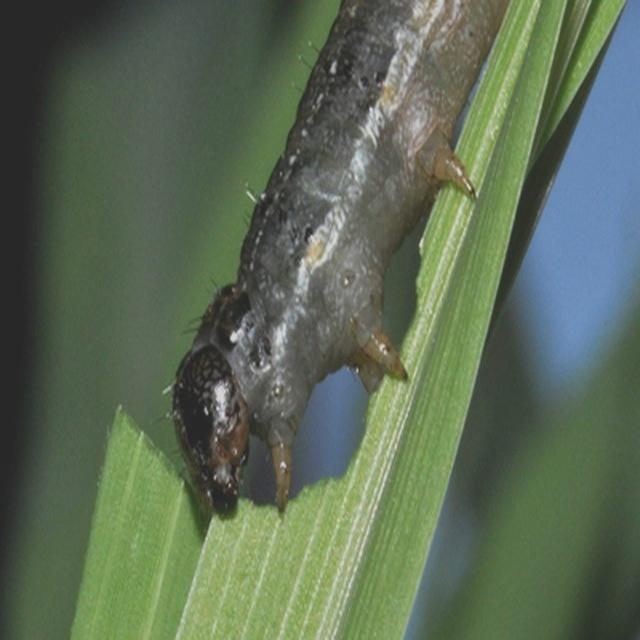gusano_cogollero: (174, 7, 492, 525)
